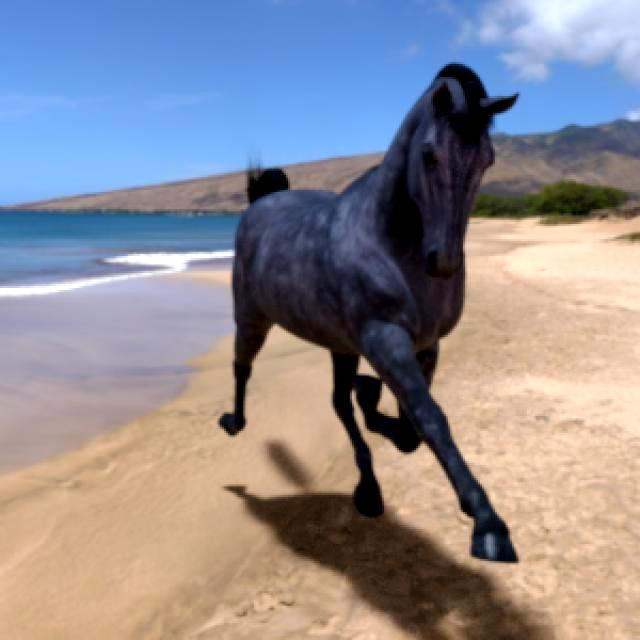horse: (219, 64, 518, 561)
